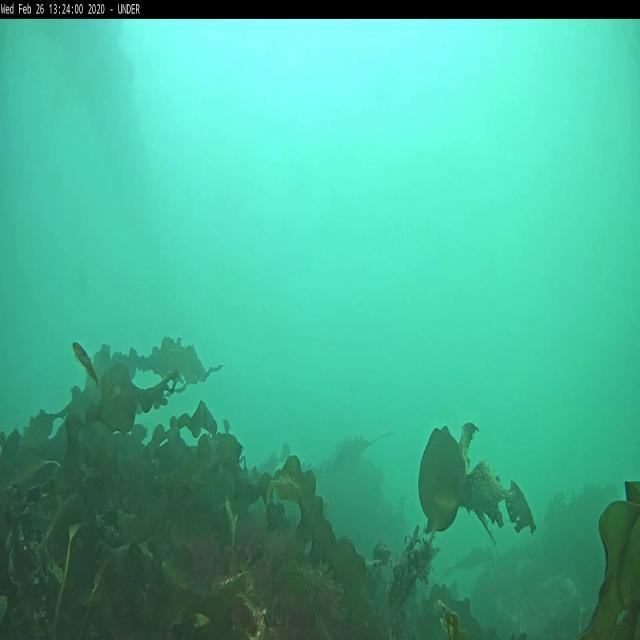fish: (72, 340, 98, 383)
